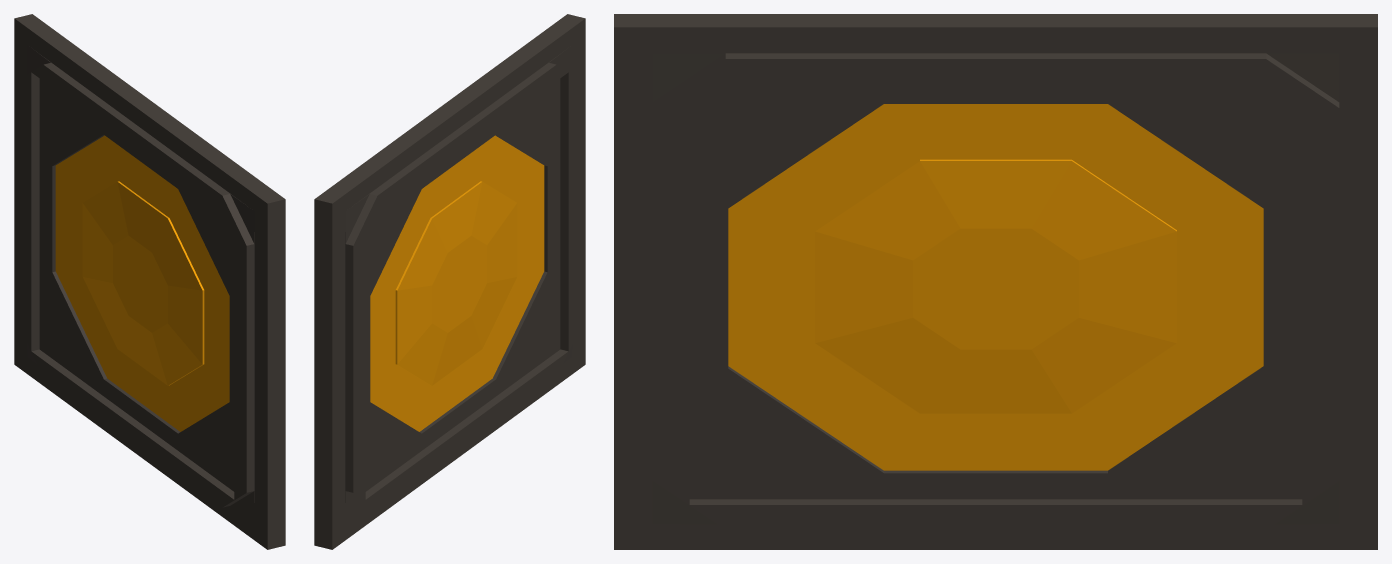
File: Door_Up.fbx
The picture shows the model from 3 angles, left to right: view 1: azimuth 30°, elevation 25°; view 2: azimuth 150°, elevation 25°; view 3: azimuth 270°, elevation 25°; orthographic projection. The views are drawn at different scales.
Parts seen in each view (by area): view 1: Cube.004; view 2: Cube.004; view 3: Cube.004.
Boxes of the visible parts, left/top/right/bottom form: Cube.004: left=14, top=14, right=285, bottom=549; Cube.004: left=314, top=14, right=585, bottom=549; Cube.004: left=614, top=14, right=1377, bottom=549.
Size of the model in its own units: 31.55 by 305 by 405.
